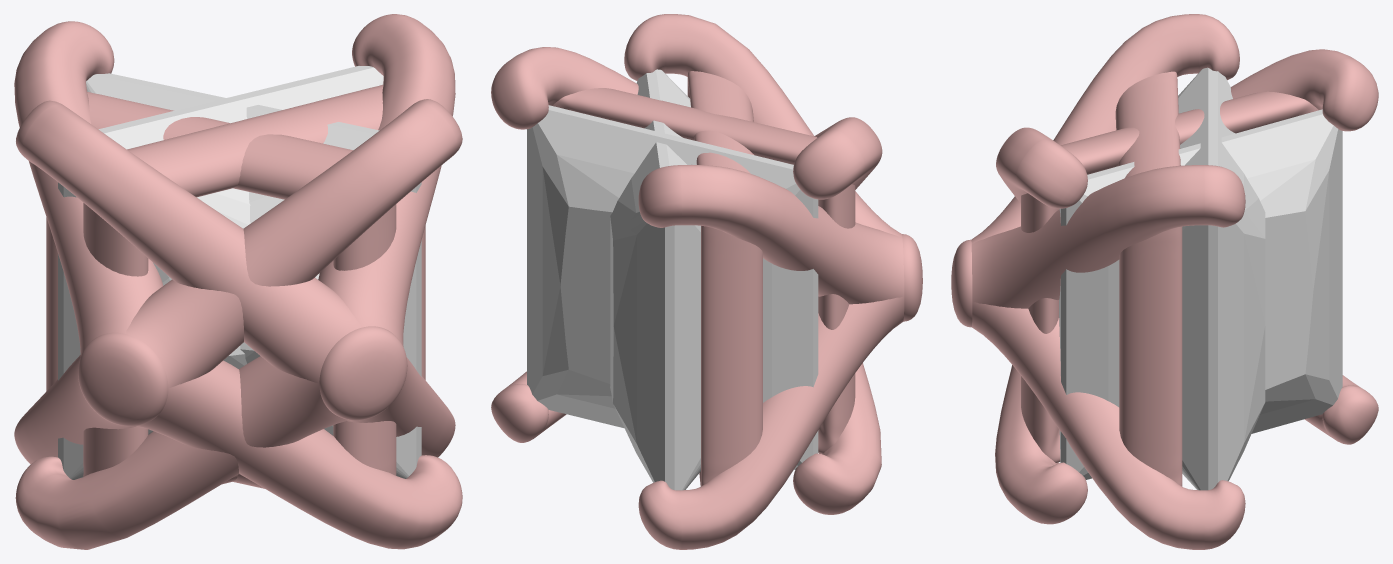
File: TRAPEZOID.glb
The picture shows the model from 3 angles, left to right: view 1: azimuth 30°, elevation 25°; view 2: azimuth 150°, elevation 25°; view 3: azimuth 270°, elevation 25°; orthographic projection. The views are drawn at different scales.
Visible parts, largest first — view 1: left_stone, right_stone, left_stone_diamond, right_stone_diamond; view 2: right_stone, left_stone_diamond, left_stone, right_stone_diamond; view 3: left_stone, right_stone_diamond, right_stone, left_stone_diamond.
Boxes of the visible parts, x1,y1,x2,y2 form: left_stone: [15, 14, 455, 549]; right_stone: [14, 21, 462, 549]; left_stone_diamond: [58, 66, 383, 479]; right_stone_diamond: [86, 73, 421, 478]; right_stone: [624, 14, 922, 549]; left_stone_diamond: [527, 105, 818, 469]; left_stone: [491, 47, 882, 514]; right_stone_diamond: [610, 69, 700, 490]; left_stone: [951, 14, 1245, 549]; right_stone_diamond: [1059, 109, 1342, 479]; right_stone: [995, 49, 1378, 524]; left_stone_diamond: [1178, 67, 1265, 490].
Bounding box in the file's own units: 7.02 × 7.05 × 7.1.
